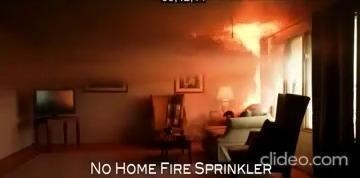fire: (220, 0, 297, 113)
